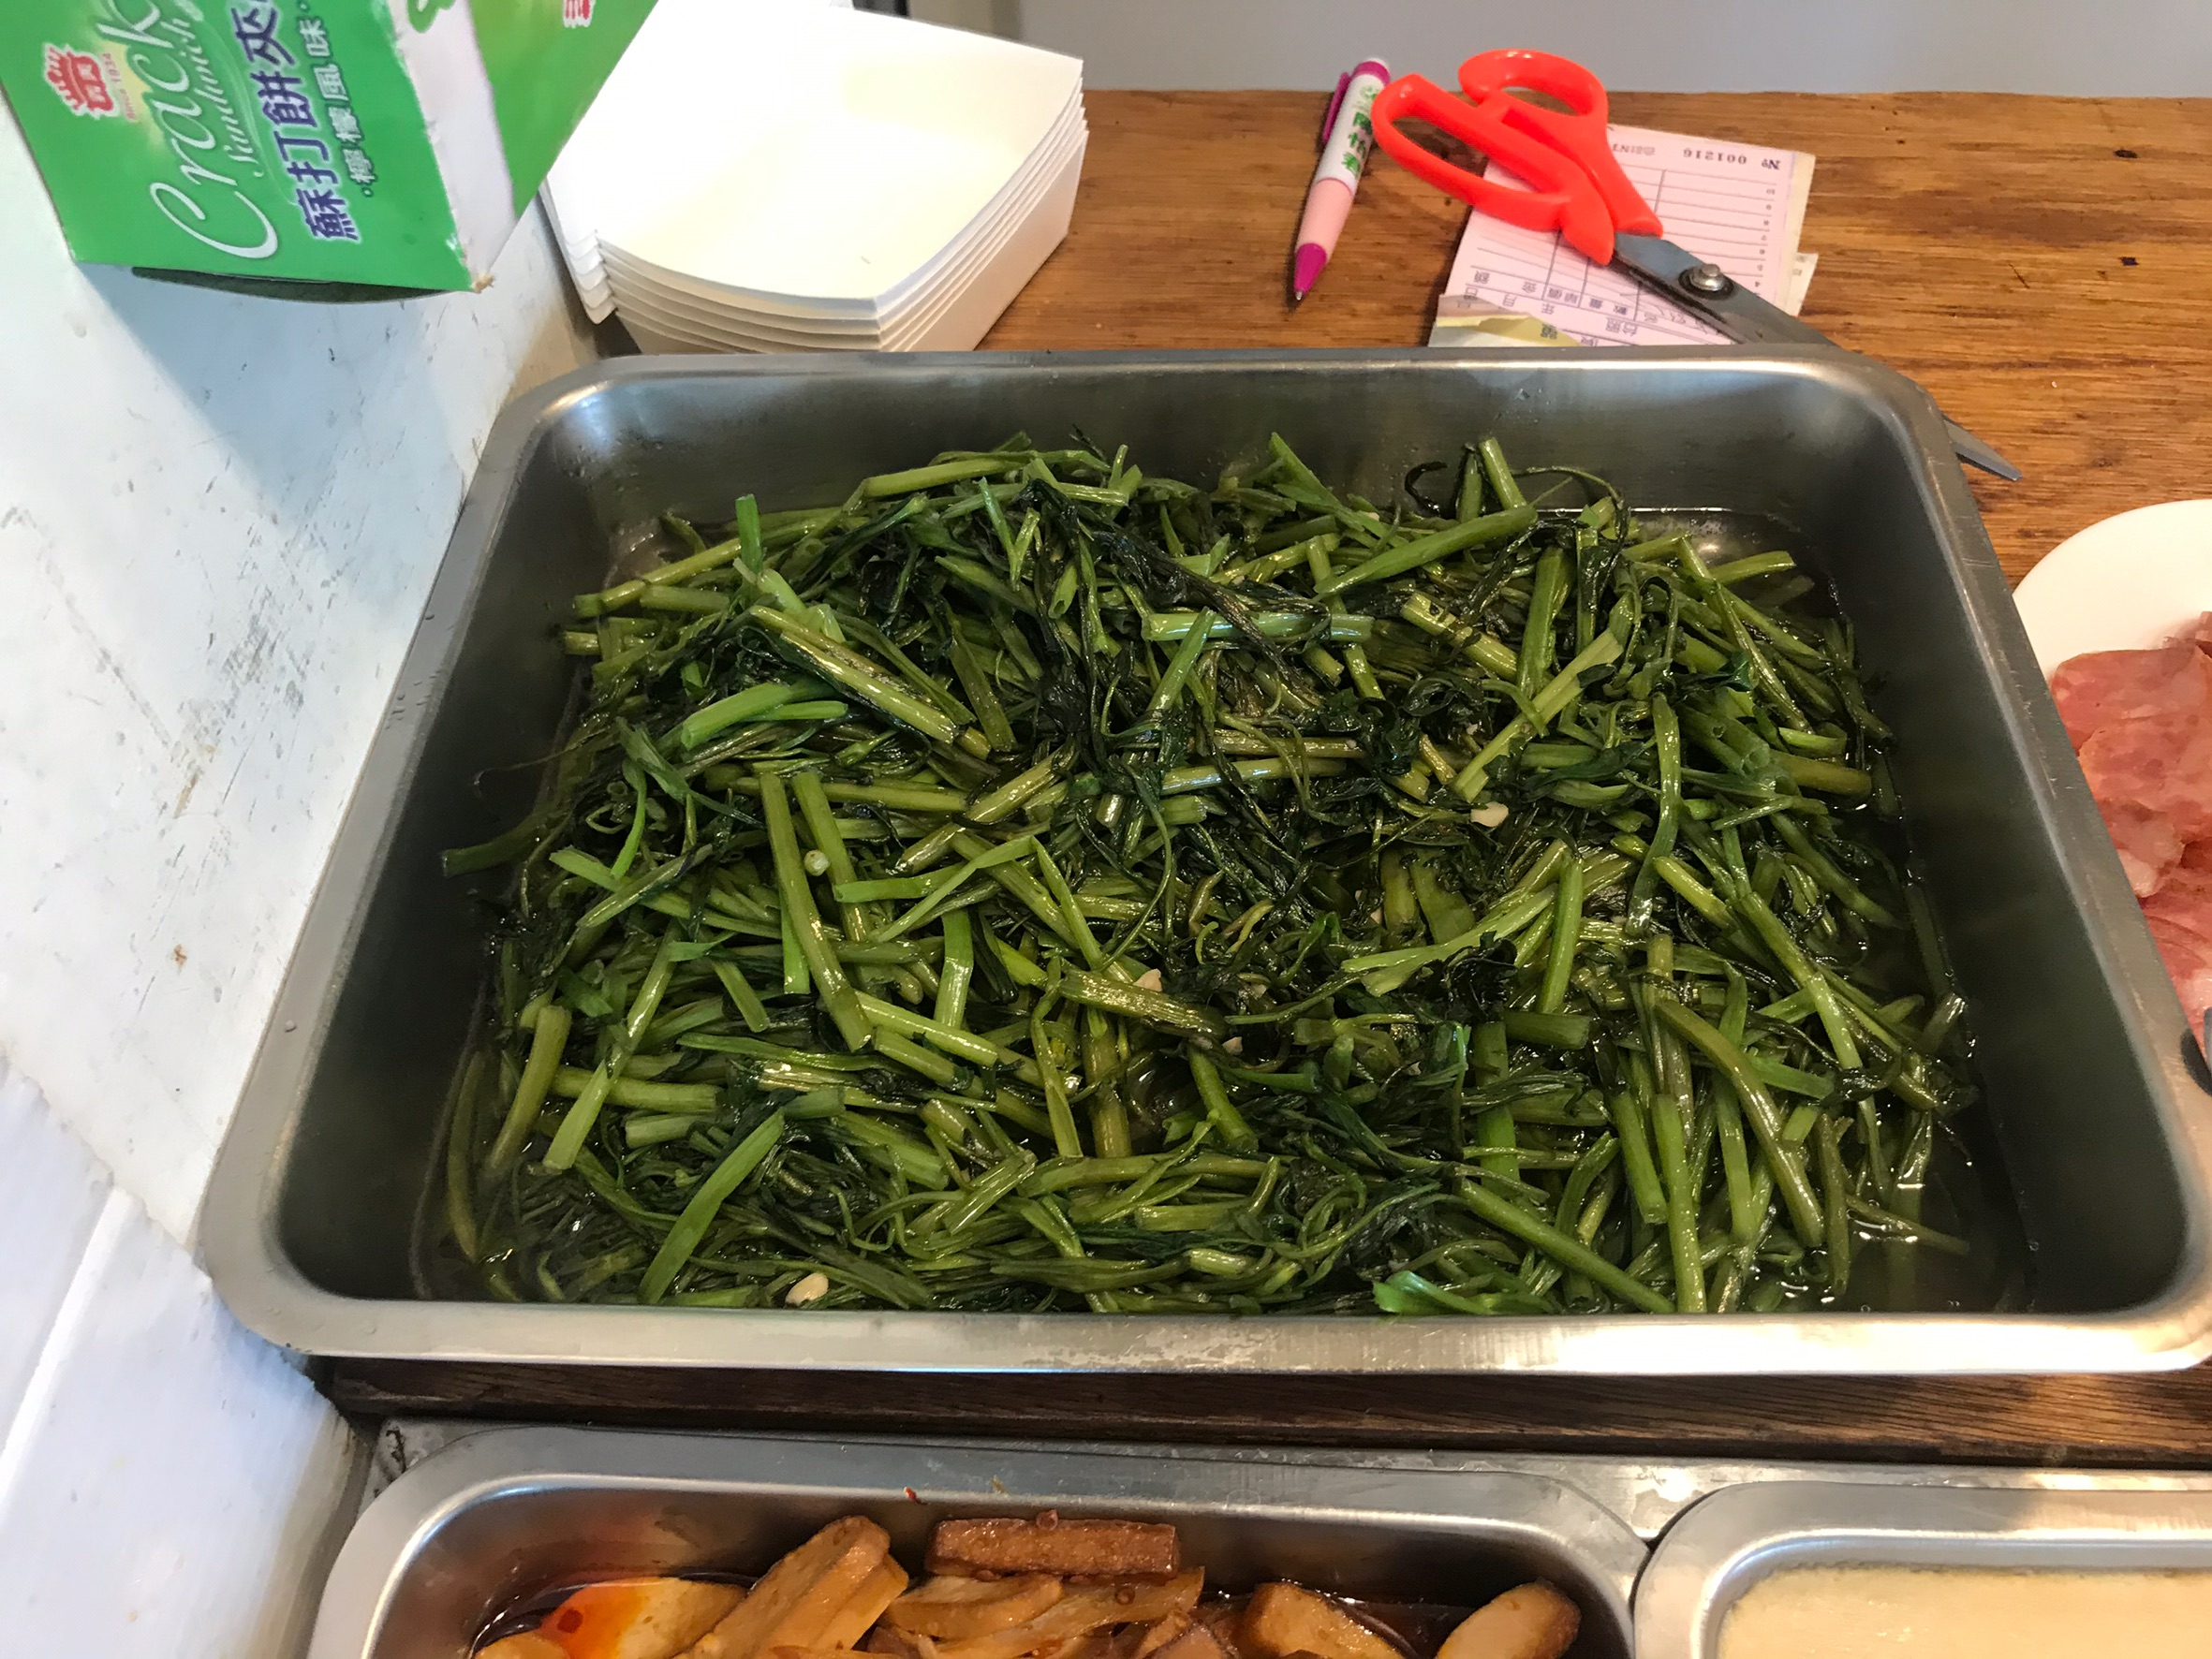water_spinach: (621, 532, 1816, 1269)
